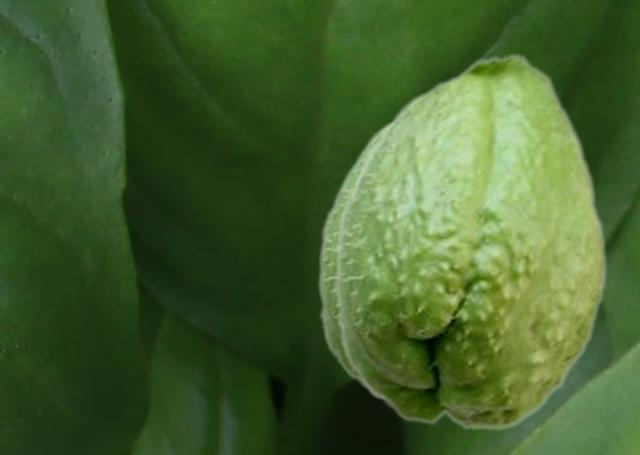sayote: (334, 51, 608, 431), (317, 118, 390, 403)
